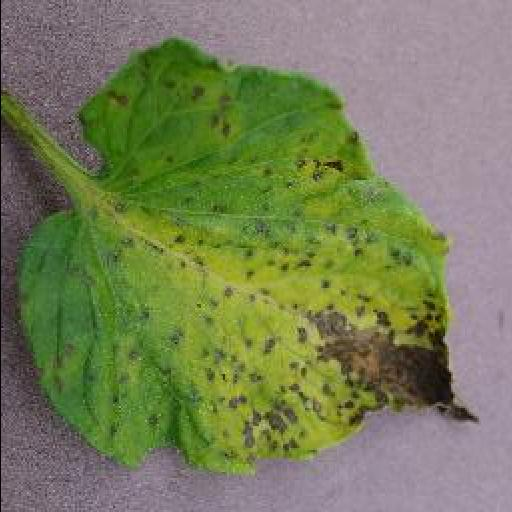disease_tomato: (16, 44, 472, 472)
